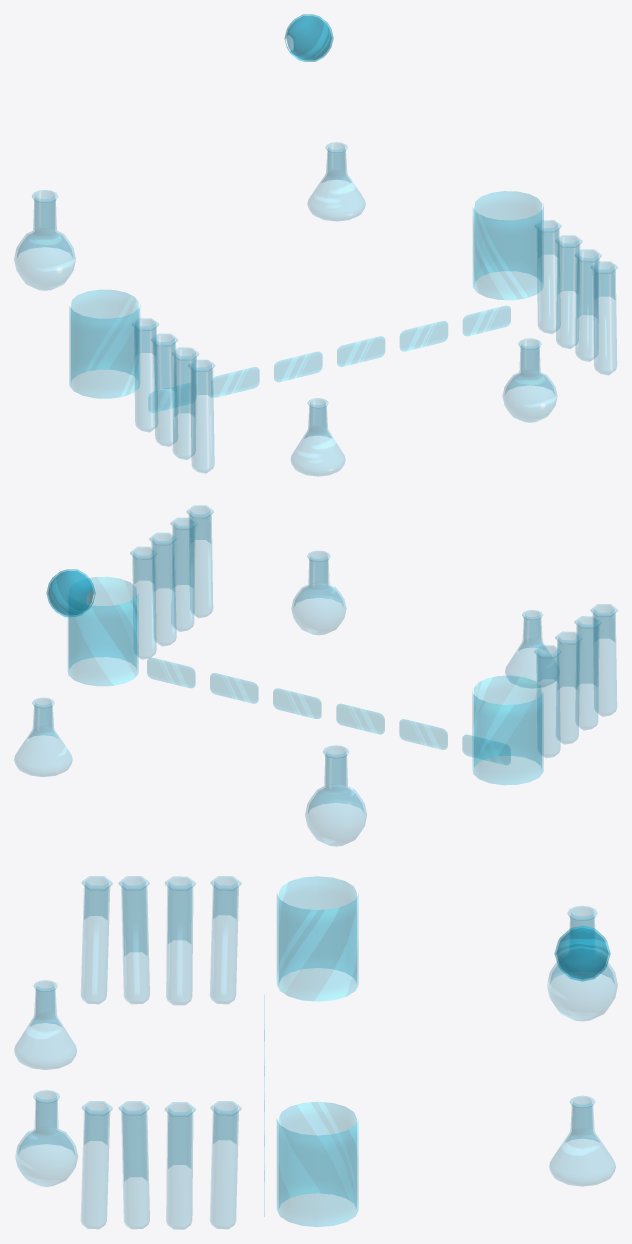
File: obj_glass.gltf
3 renders of one model, top to bottom at view 1: azimuth 30°, elevation 25°; view 2: azimuth 150°, elevation 25°; view 3: azimuth 270°, elevation 25°, orthographic. The views are drawn at different scales.
Parts seen in each view (by area): view 1: obj_glass; view 2: obj_glass; view 3: obj_glass.
Boxes of the visible parts, x1,y1,x2,y2 form: obj_glass: [14, 14, 617, 476]; obj_glass: [14, 505, 617, 846]; obj_glass: [14, 876, 617, 1229].
Bounding box in the file's own units: 15.95 × 7.47 × 15.65.
Materials: 4 (4 with a texture image).
